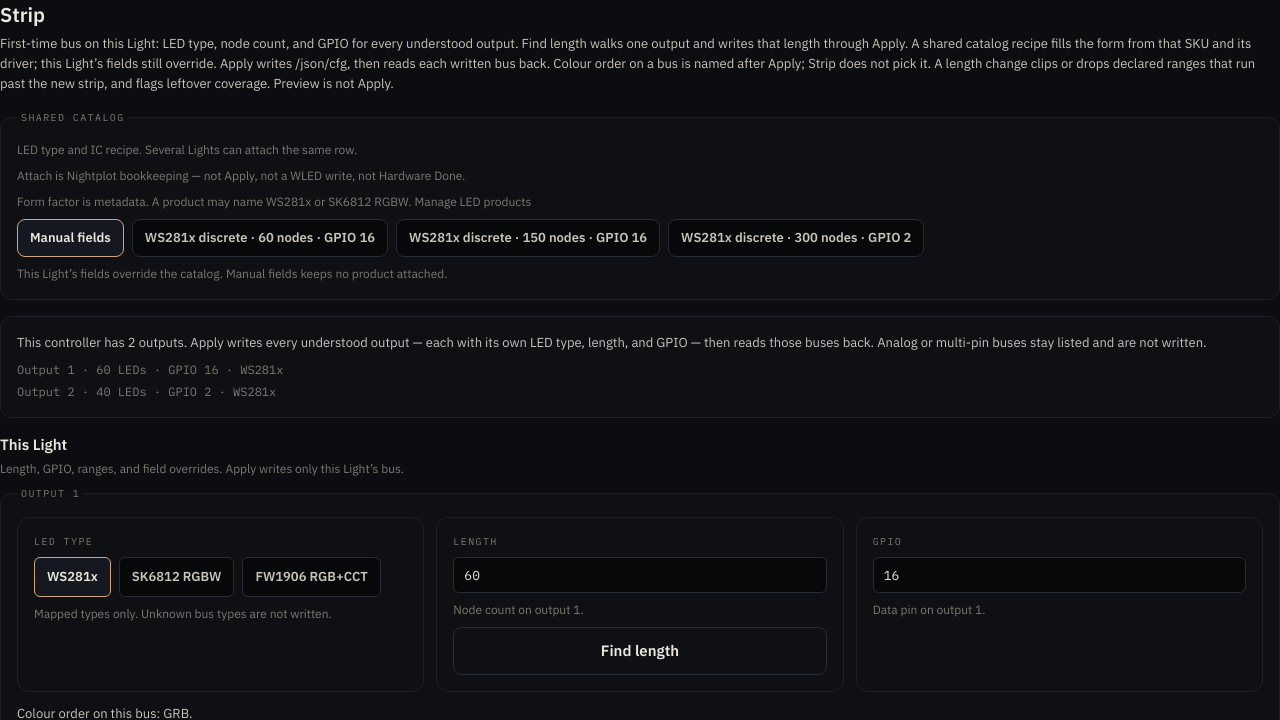
Test: Strip provision › edits and writes every understood output, then shows per-output readback
The width and height of the screenshot is (1280, 720).
Expected: the text "This controller has 2 outputs" is shown, left=17, top=332, right=1263, bottom=352
Expected: the button with aria-label "Find length on output 1" is shown, left=453, top=627, right=827, bottom=675
Replace the text in the field named "Output 1 node count" with "70" at x=640, y=575, box left=453, top=557, right=827, bottom=593
(page scrolled)
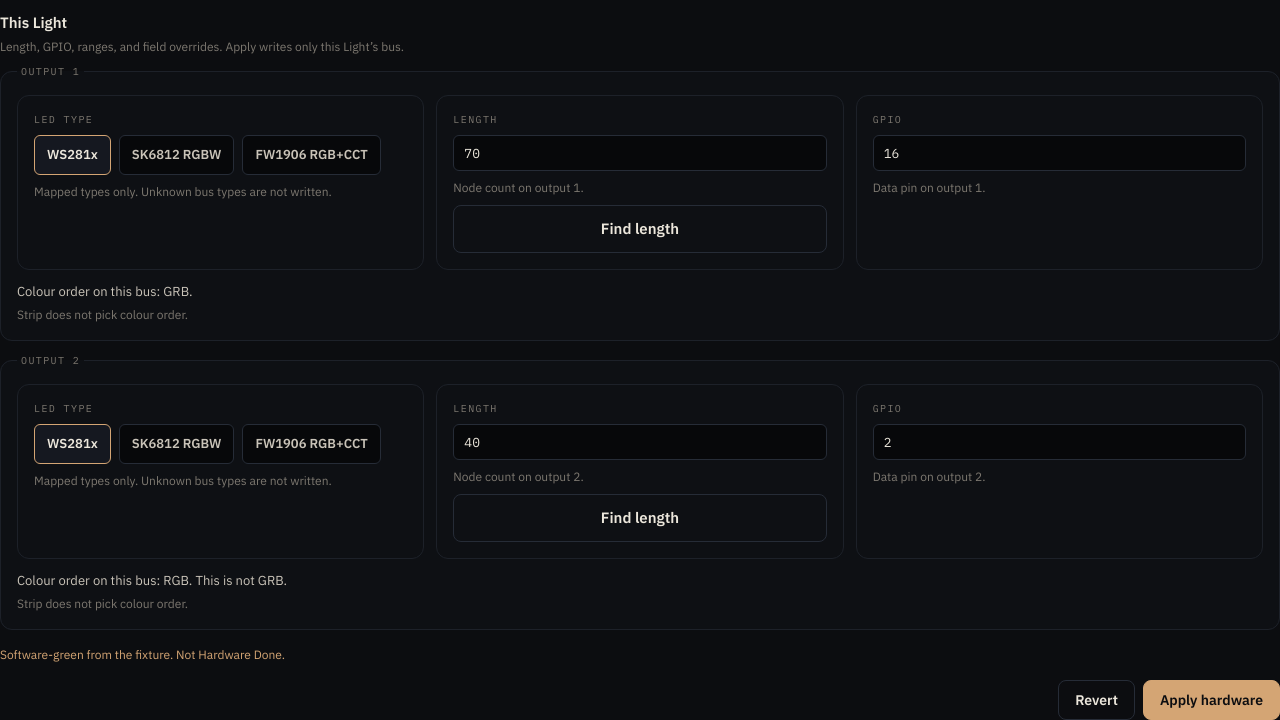
Click the button "Apply hardware" at x=1211, y=700, box left=1143, top=680, right=1279, bottom=719
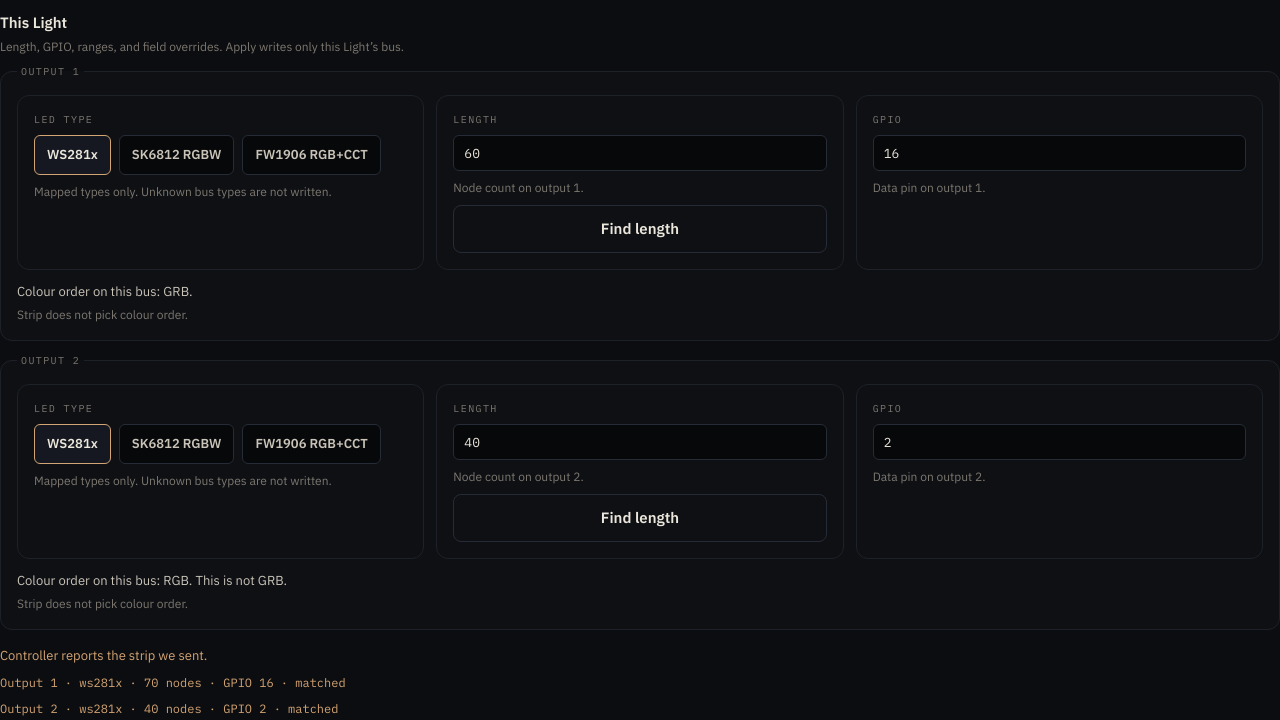
Result: the text "Controller reports the strip we sent." is shown at left=0, top=647, right=207, bottom=664
Result: the text "Output 1 · ws281x · 70 nodes · GPIO 16 · matched" is shown at left=0, top=674, right=346, bottom=690
Result: the text "Output 2 · ws281x · 40 nodes · GPIO 2 · matched" is shown at left=0, top=700, right=338, bottom=716
